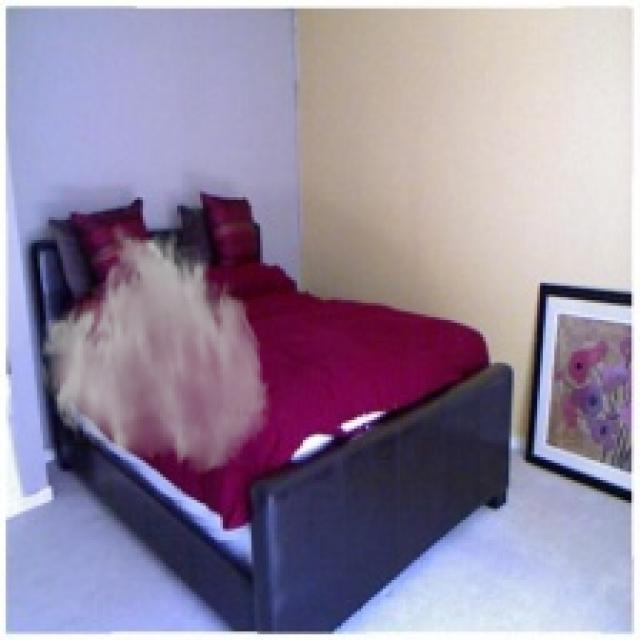Smoke: (37, 220, 272, 477)
